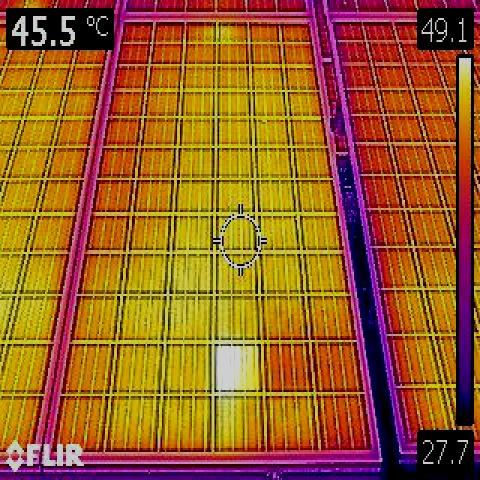fault: (215, 346, 259, 390)
